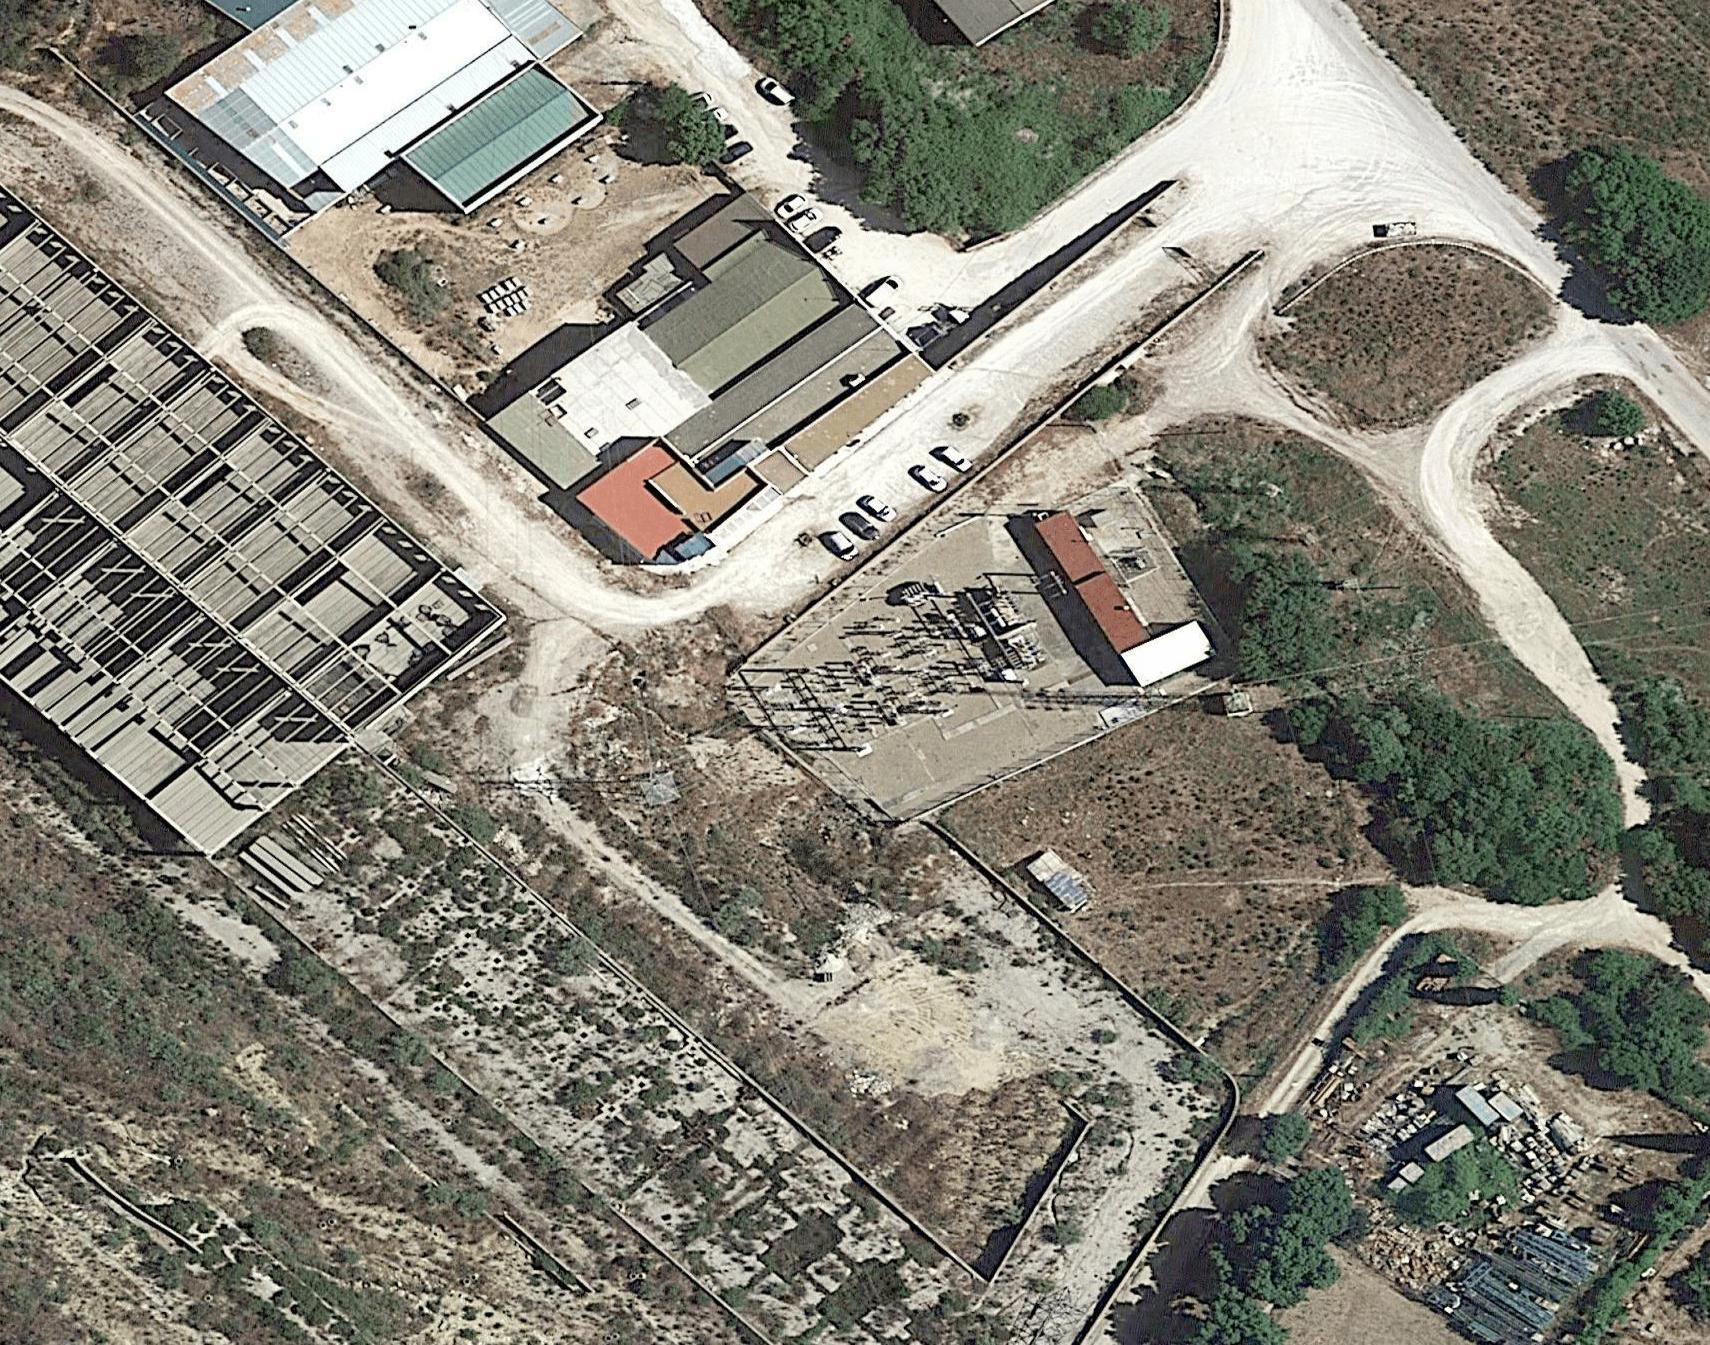substation: (729, 566, 1073, 773)
